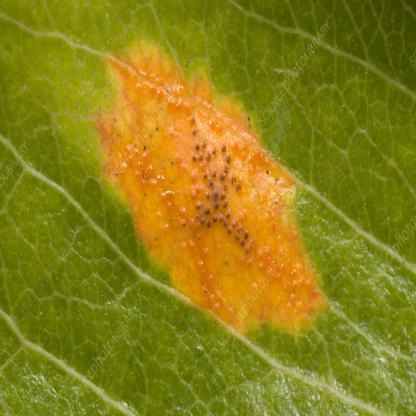apple rust leaf: (55, 27, 368, 398)
